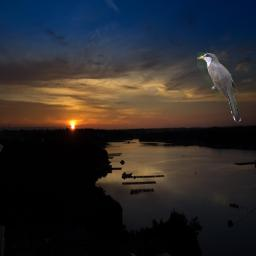Cuckoo: (197, 52, 242, 123)
